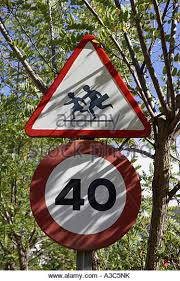Speed_limit_40km: (29, 143, 140, 250)
